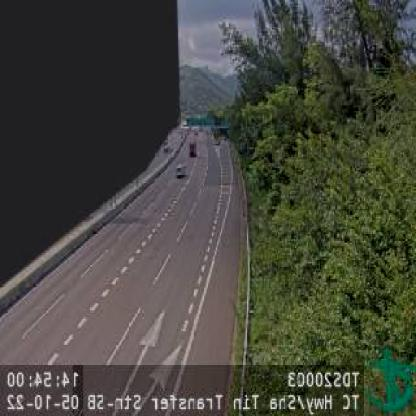Car: (175, 163, 186, 177)
